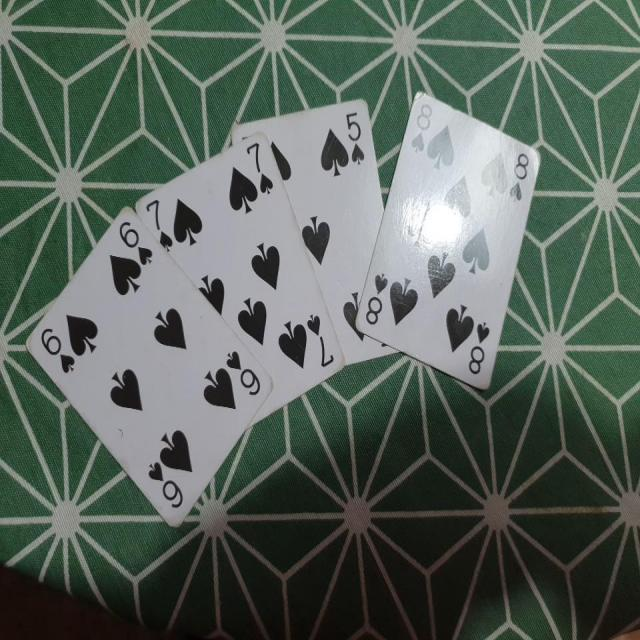5 Spades: (234, 92, 395, 367)
6 Spades: (27, 204, 272, 536)
7 Spades: (126, 137, 342, 422)
8 Spades: (348, 91, 544, 398)
